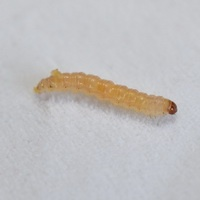insect: (34, 69, 176, 116)
